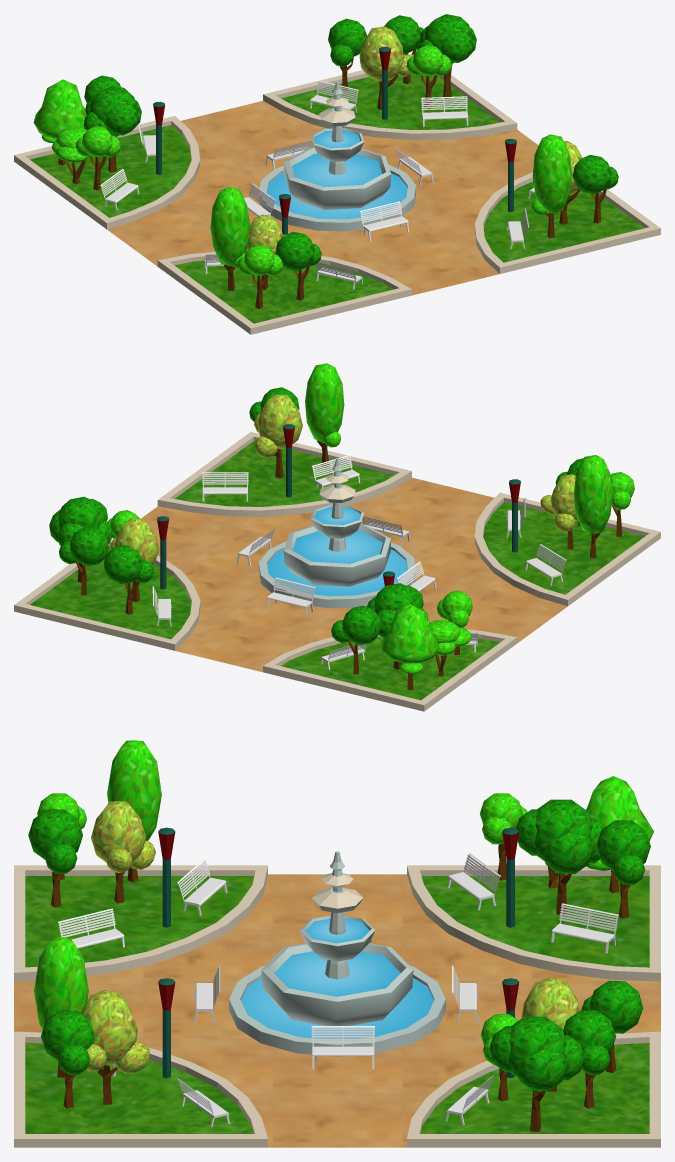
Rendered from Park_LV2.fbx.
3 views of the same model, one above another, from view 1: azimuth 30°, elevation 25°; view 2: azimuth 150°, elevation 25°; view 3: azimuth 270°, elevation 25° (orthographic). The views are drawn at different scales.
Parts seen in each view (by area): view 1: pARK LEVEL 2; view 2: pARK LEVEL 2; view 3: pARK LEVEL 2.
Boxes of the visible parts, box(x1,y1,x2,y2) form: pARK LEVEL 2: box(14, 14, 660, 334); pARK LEVEL 2: box(14, 363, 660, 711); pARK LEVEL 2: box(14, 740, 660, 1147).
Size of the model in its own units: 101 by 27.11 by 100.
